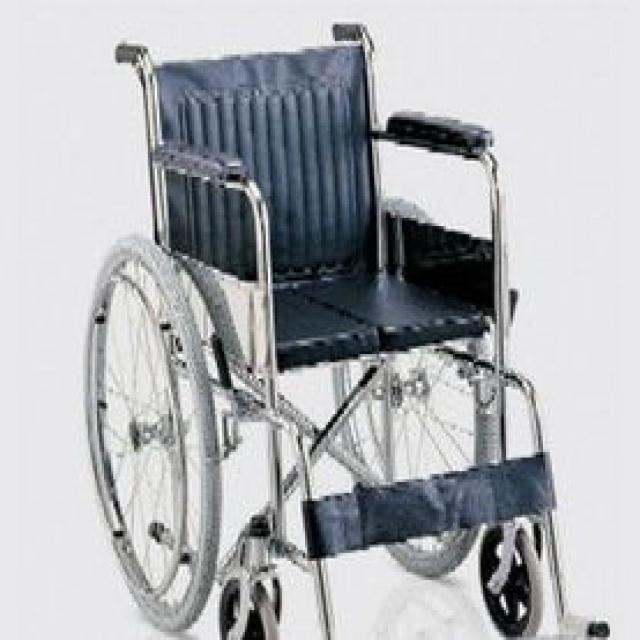wheelchair: (55, 19, 610, 637)
